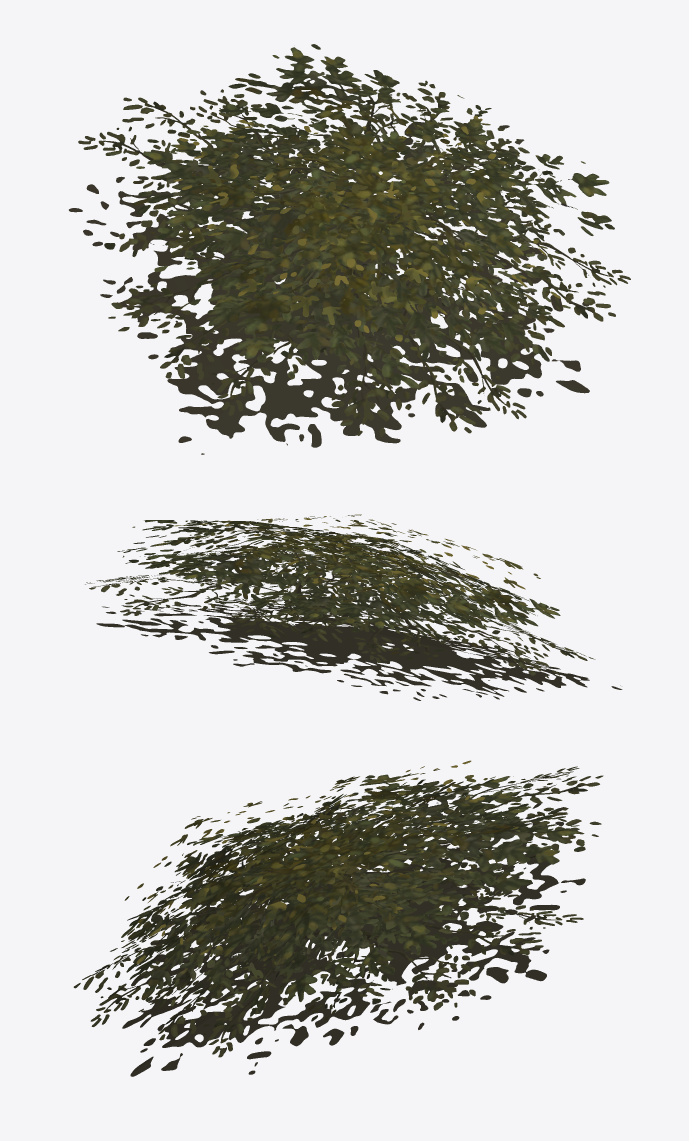
Rendered from plants_bushes15.fbx.
3 renders of one model, top to bottom at view 1: azimuth 30°, elevation 25°; view 2: azimuth 150°, elevation 25°; view 3: azimuth 270°, elevation 25°, orthographic. The views are drawn at different scales.
Parts seen in each view (by area): view 1: obj0.122; view 2: obj0.122; view 3: obj0.122.
Part boxes in pixels (bbox=[...]): obj0.122: bbox=[69, 44, 630, 454]; obj0.122: bbox=[85, 514, 622, 700]; obj0.122: bbox=[73, 760, 603, 1076].
Bounding box in the file's own units: 2.79 × 1.07 × 2.67.
